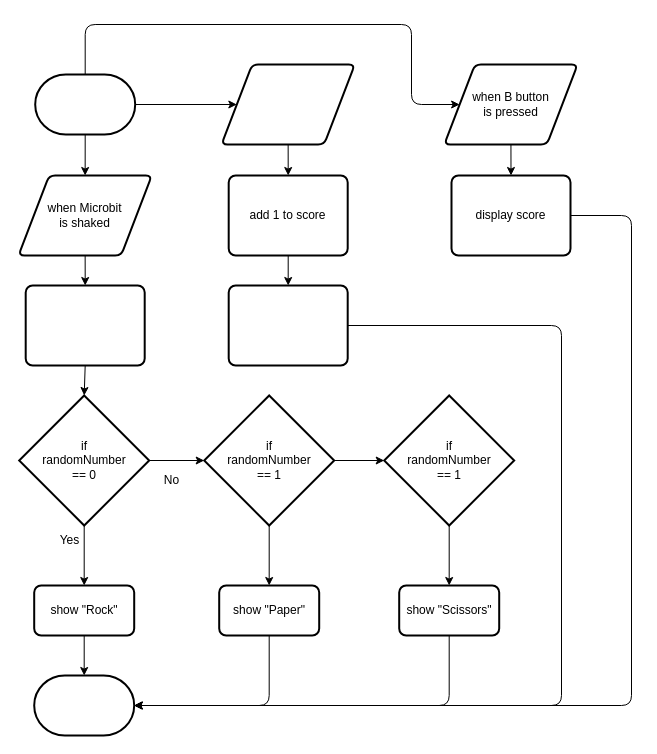
Some shapes in this 657 by 754 pixel diagram are drawn without their labels. The centre of each missing label's shape, as x and y in pixels:
"display checkmark" belongs at point 287,325.
"Generate random number from 0-2" belongs at point 84,325.
"Start" belongs at point 85,104.
"Stop" belongs at point 84,705.
"when A button is pressed" belongs at point 287,104.
